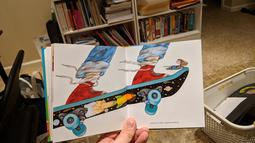text block: (148, 118, 180, 125)
